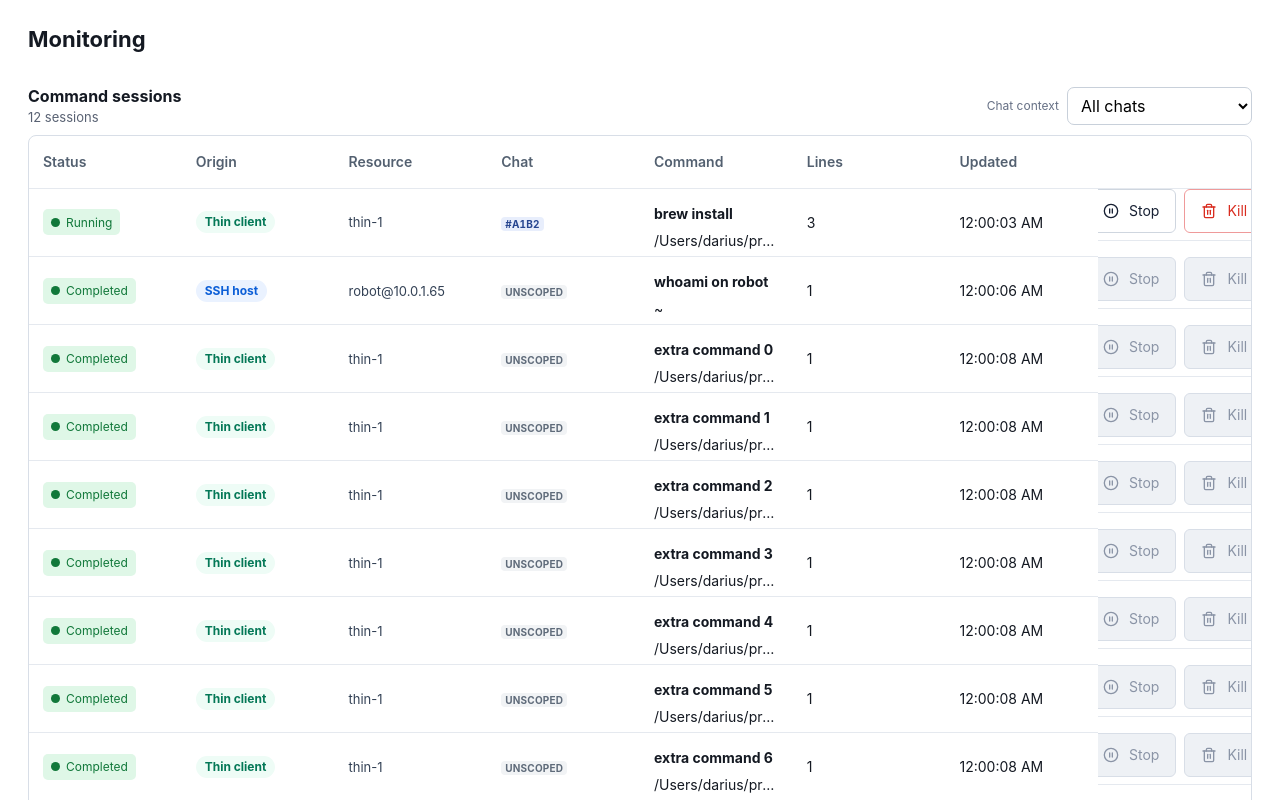
Test case: monitoring remote renders paginated sessions and selected terminal output
Expected: the heading "Monitoring" is shown, [28, 26, 146, 52]
Expected: the text "12 sessions" is shown, [28, 109, 98, 125]
Click the text "brew install" at (693, 213), box [654, 204, 733, 222]
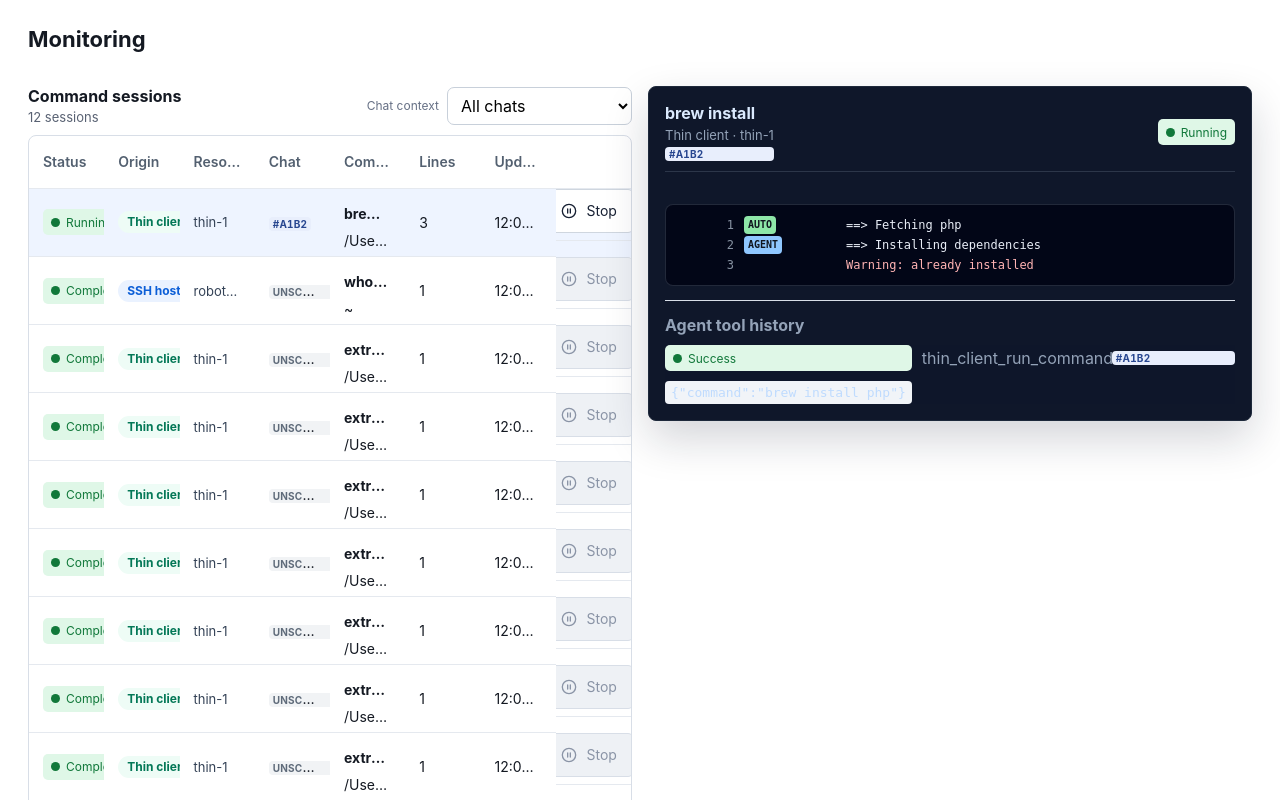
Expected: the text "==> Fetching php" is shown, [846, 218, 962, 232]
Expected: the element with class "terminal-output-panel" is shown, [648, 86, 1252, 421]
Expected: the text "auto" is shown, [744, 216, 776, 234]
Select "#A1b2 · gateway-ui" in the dropdown labelled "Chat context" at (540, 106), box [447, 86, 632, 124]
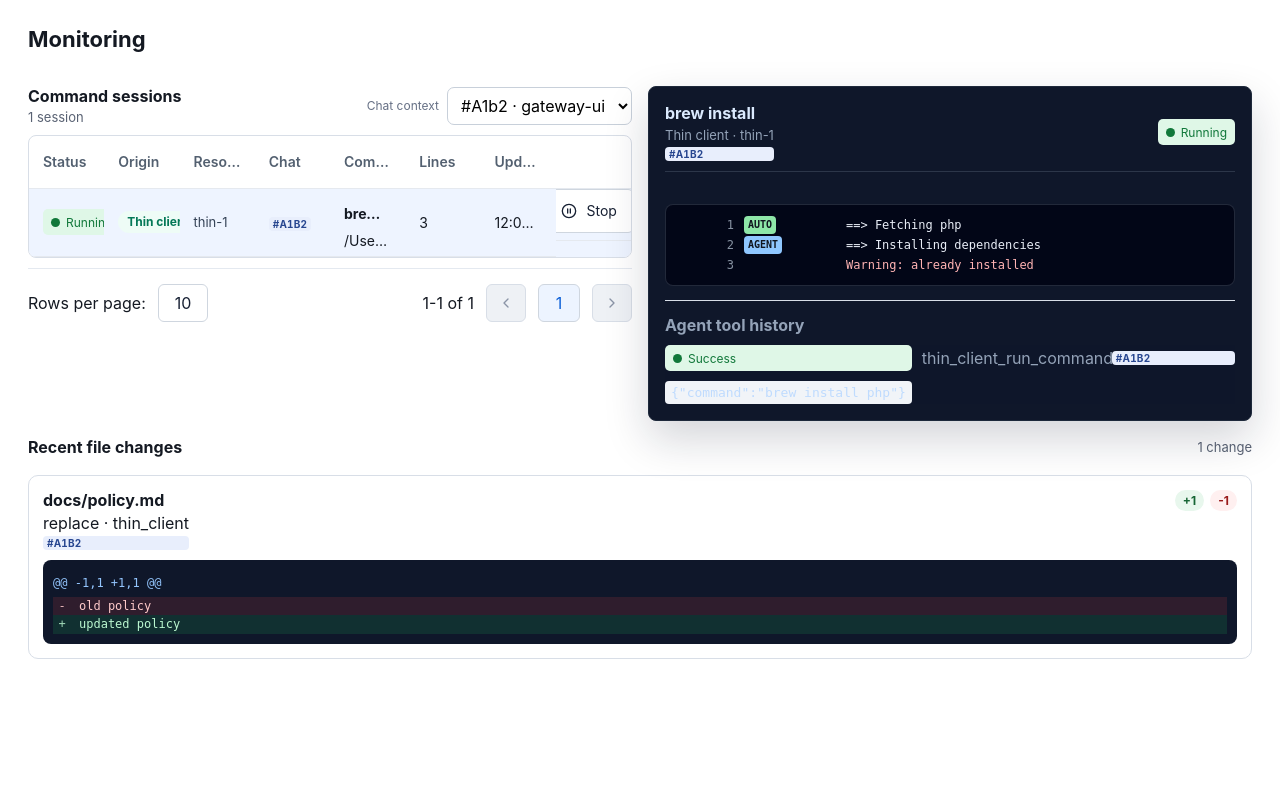
Expected: the text "docs/policy.md" is shown, [43, 490, 164, 510]
Expected: the text "1 session" is shown, [28, 109, 84, 125]
Expected: the text "whoami on robot" is gone
